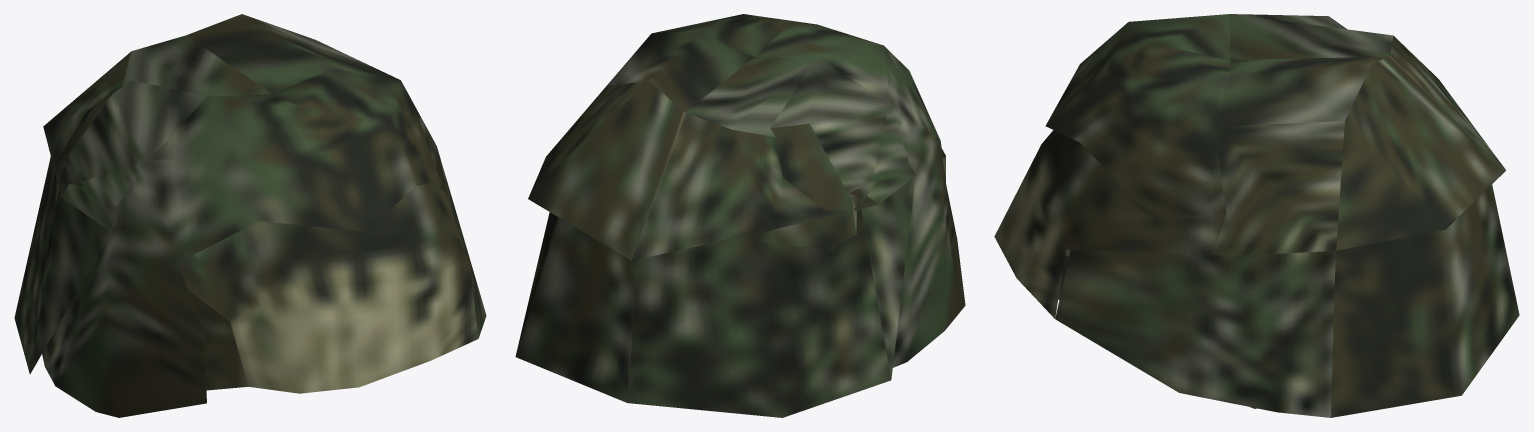
The model's file is MilitaryHelmetRagtop_WorldItem.fbx.
3 renders of one model, left to right at view 1: azimuth 30°, elevation 25°; view 2: azimuth 150°, elevation 25°; view 3: azimuth 270°, elevation 25°, orthographic. The views are drawn at different scales.
Visible parts, largest first — view 1: PASGTRag; view 2: PASGTRag; view 3: PASGTRag.
Part boxes in pixels (left/top/right/bottom): PASGTRag: left=14, top=14, right=486, bottom=417; PASGTRag: left=515, top=14, right=965, bottom=417; PASGTRag: left=994, top=14, right=1519, bottom=417.
Bounding box in the file's own units: 0.3377 × 0.241 × 0.4012.
